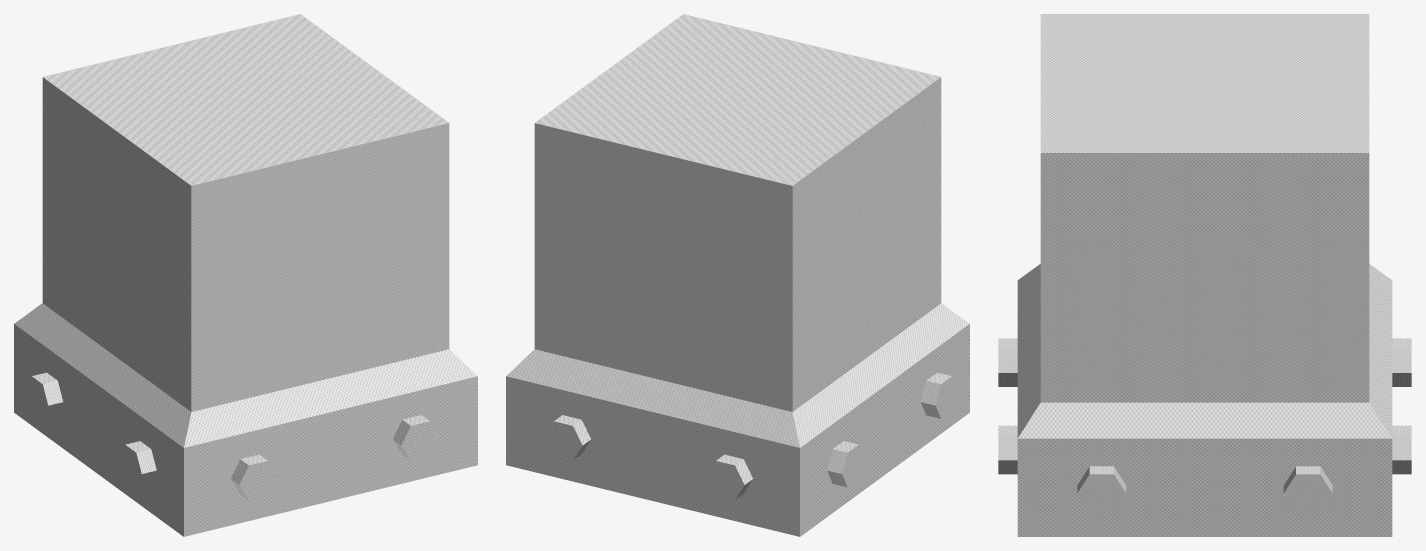
The model's file is Generic_03.dae.
3 renders of one model, left to right at view 1: azimuth 30°, elevation 25°; view 2: azimuth 150°, elevation 25°; view 3: azimuth 270°, elevation 25°, orthographic. The views are drawn at different scales.
Visible parts, largest first — view 1: Generic_03; view 2: Generic_03; view 3: Generic_03.
Part boxes in pixels (x1,y1,x2,y2): Generic_03: (14,14,477,536); Generic_03: (506,14,969,536); Generic_03: (998,14,1411,536).
Bounding box in the file's own units: 2 × 2 × 2.
